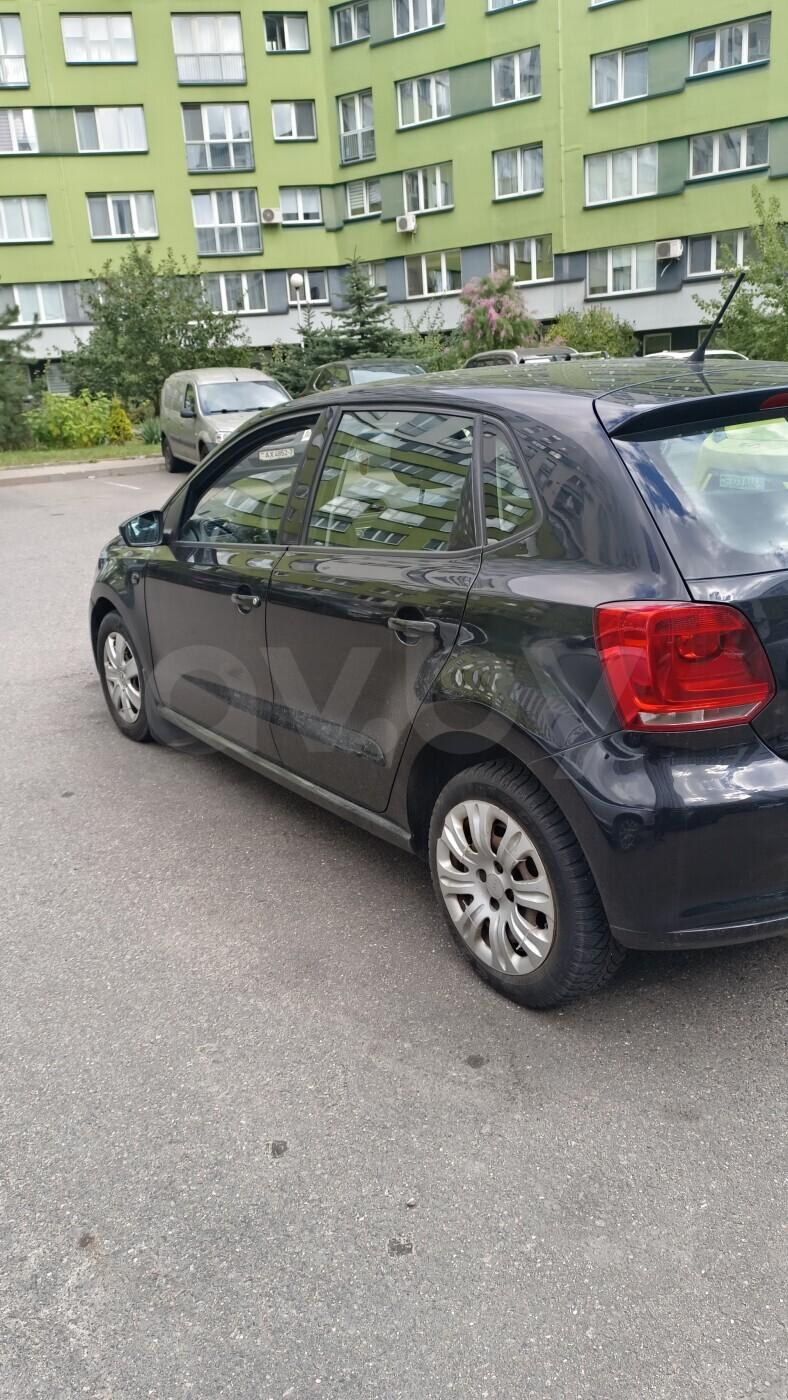Polo_2009-2015: (72, 322, 787, 1034)
